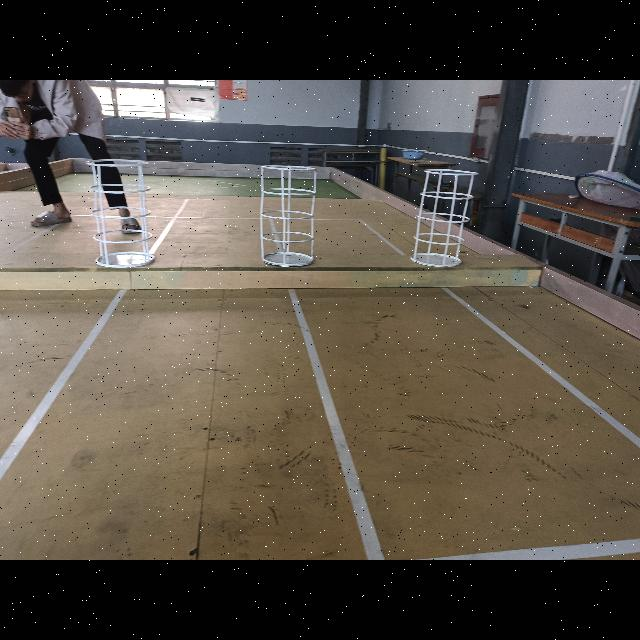S: (85, 158, 155, 269), (409, 167, 479, 268), (260, 164, 318, 269)
